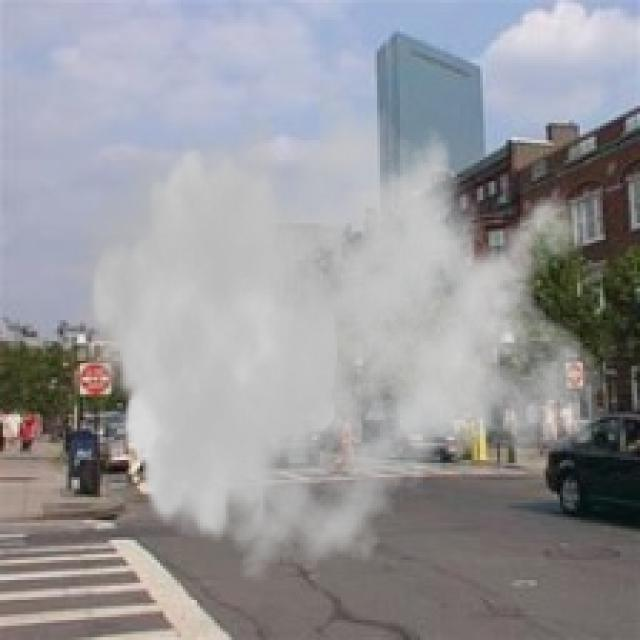Smoke: (71, 46, 608, 592)
